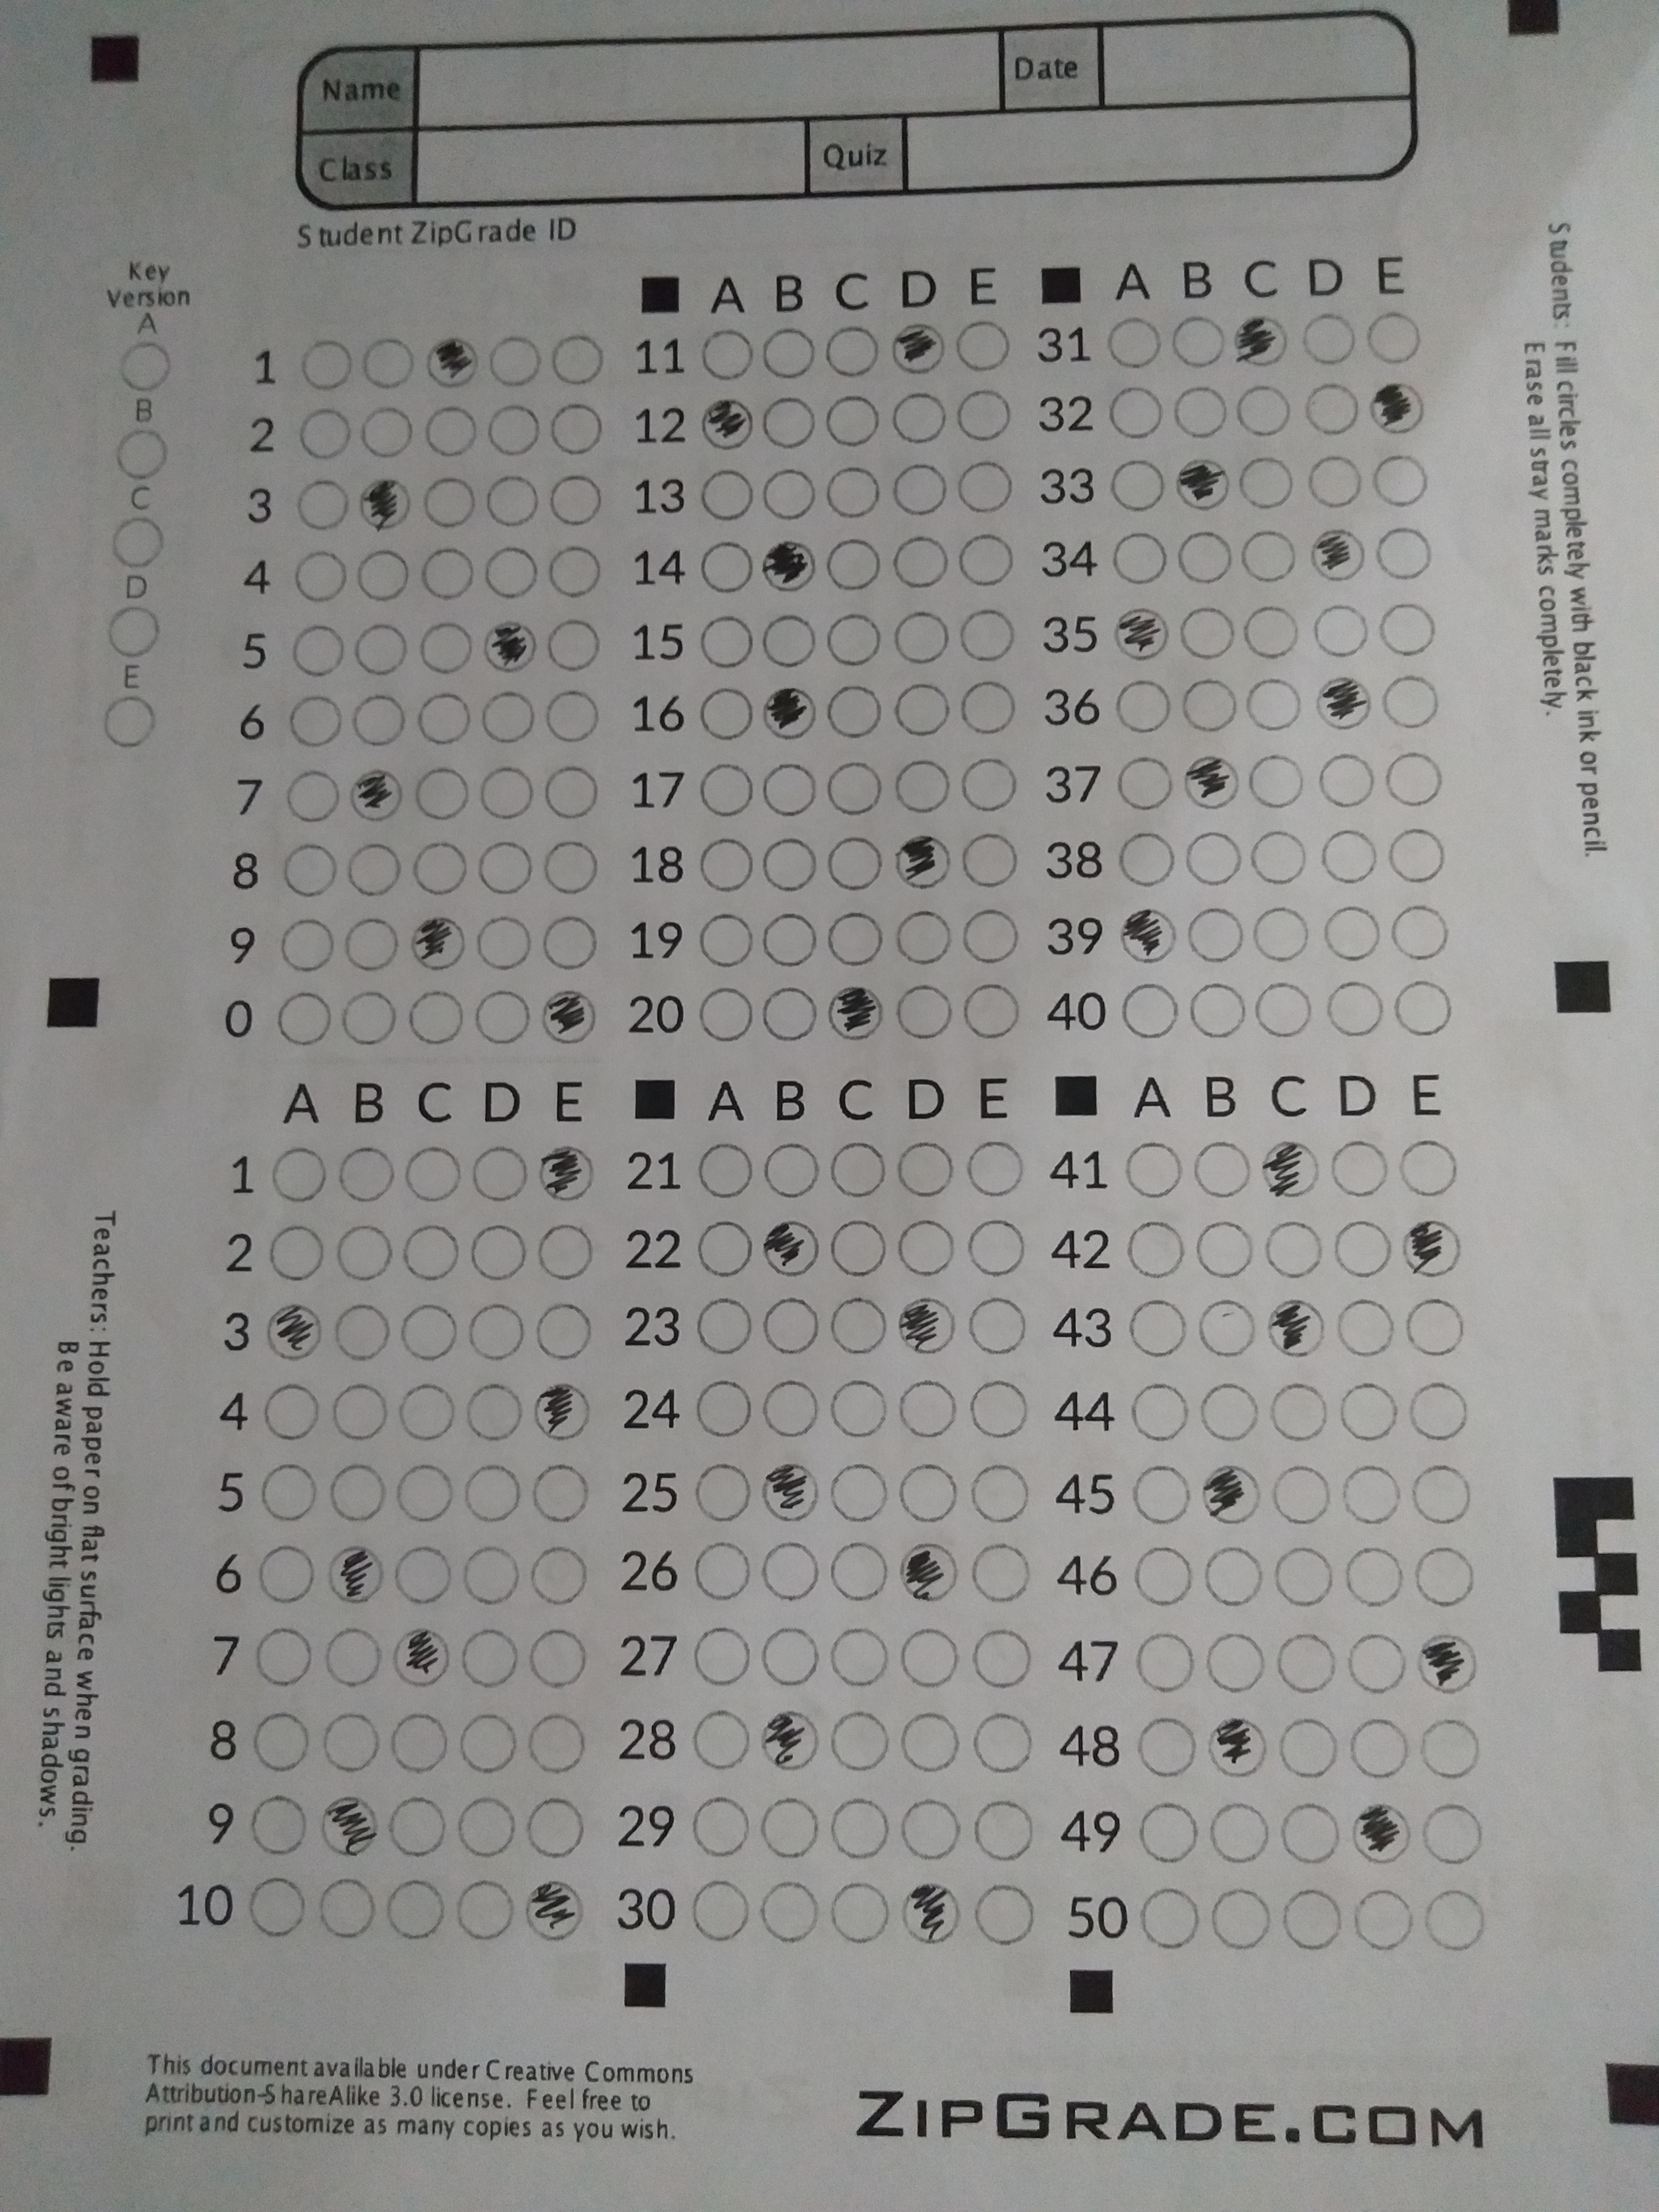not-c: (458, 1547, 530, 1611), (314, 1627, 385, 1691), (237, 1874, 308, 1939), (390, 1545, 460, 1609), (455, 1629, 525, 1693), (387, 1710, 457, 1775), (530, 1709, 599, 1773), (528, 1547, 598, 1611), (532, 1465, 601, 1529), (530, 1630, 599, 1695), (525, 1794, 594, 1858), (453, 1794, 523, 1858), (310, 1878, 380, 1942), (385, 1794, 455, 1858), (319, 1383, 389, 1447), (254, 1383, 324, 1447), (251, 1541, 321, 1606), (249, 1623, 319, 1688), (242, 1794, 312, 1858), (383, 1881, 455, 1944), (246, 1710, 317, 1773), (453, 1710, 523, 1773), (317, 1710, 387, 1773), (322, 1463, 392, 1526), (254, 1463, 324, 1526), (547, 470, 612, 535), (1270, 1545, 1337, 1608), (1345, 1630, 1412, 1693), (1342, 1548, 1408, 1611), (1412, 1461, 1478, 1524), (1349, 1890, 1415, 1952), (1276, 1717, 1342, 1780), (1347, 1716, 1413, 1778), (1326, 1134, 1392, 1197), (1417, 1719, 1483, 1782), (1187, 1139, 1253, 1202), (1190, 1221, 1256, 1284), (1194, 1299, 1260, 1362), (1197, 1383, 1263, 1446), (1127, 1548, 1194, 1611), (1127, 1465, 1194, 1527), (1124, 1379, 1190, 1442), (1122, 1298, 1188, 1360), (1121, 1223, 1187, 1285), (1115, 1139, 1182, 1202), (974, 1881, 1040, 1944), (1206, 1804, 1272, 1867), (962, 1143, 1028, 1205), (828, 1378, 894, 1440), (829, 1296, 896, 1359), (760, 1378, 826, 1440), (687, 1296, 753, 1359), (971, 1543, 1037, 1606), (964, 1376, 1030, 1439), (828, 1710, 894, 1773), (824, 1625, 890, 1688), (687, 1709, 753, 1771), (758, 1625, 824, 1688), (826, 1883, 892, 1946), (901, 1796, 967, 1858), (688, 1629, 755, 1691), (394, 1465, 462, 1526), (544, 686, 608, 749), (540, 538, 605, 601), (477, 535, 542, 597), (545, 399, 610, 462), (481, 401, 545, 463), (481, 467, 545, 529), (415, 538, 479, 601), (416, 470, 481, 533), (354, 404, 418, 467), (354, 542, 418, 604), (284, 542, 349, 604), (288, 472, 352, 535), (289, 399, 354, 462), (551, 329, 615, 392), (486, 333, 551, 395), (355, 333, 420, 395), (291, 333, 355, 395), (408, 988, 472, 1050), (469, 984, 533, 1047), (479, 833, 544, 895), (474, 761, 538, 824), (540, 613, 605, 676), (411, 763, 476, 826), (415, 693, 479, 756), (418, 618, 483, 681), (340, 911, 404, 974), (340, 840, 404, 902), (354, 620, 418, 683), (342, 986, 406, 1049), (272, 989, 336, 1052), (270, 918, 335, 981), (274, 843, 338, 906), (274, 768, 338, 831), (282, 691, 347, 754), (282, 617, 347, 679), (758, 611, 823, 674), (690, 610, 755, 672), (828, 907, 892, 970), (828, 834, 892, 897), (762, 831, 826, 894), (765, 761, 829, 824), (760, 986, 824, 1049), (763, 907, 828, 970), (697, 913, 762, 975), (695, 834, 760, 897), (699, 759, 763, 822), (692, 683, 756, 745), (695, 989, 760, 1052), (542, 913, 606, 975), (542, 834, 606, 897), (829, 759, 894, 822), (1399, 1139, 1464, 1202), (1175, 679, 1239, 742), (1110, 679, 1175, 742), (1114, 754, 1178, 817), (1114, 831, 1178, 894), (1185, 902, 1249, 965), (1243, 676, 1307, 738), (1243, 756, 1307, 819), (1248, 829, 1312, 892), (1255, 900, 1319, 963), (1255, 979, 1319, 1042), (1307, 604, 1371, 667), (1312, 752, 1377, 815), (1319, 826, 1384, 888), (1321, 906, 1385, 968), (1323, 982, 1387, 1045), (1371, 594, 1436, 657), (1380, 667, 1445, 730), (1384, 749, 1448, 812), (1389, 902, 1453, 965), (1391, 981, 1455, 1043), (1171, 603, 1236, 665), (1239, 599, 1303, 662), (1293, 303, 1358, 366), (1370, 449, 1434, 512), (1164, 383, 1229, 446), (1096, 383, 1161, 446), (1098, 314, 1162, 376), (1161, 314, 1225, 376), (1225, 381, 1290, 444), (1098, 455, 1162, 517), (1230, 451, 1295, 514), (1100, 528, 1164, 590), (1169, 526, 1234, 589), (1239, 526, 1303, 589), (1134, 1634, 1199, 1696), (1201, 1634, 1265, 1696), (1274, 1632, 1338, 1695), (1265, 1381, 1330, 1444), (1333, 1219, 1398, 1282), (1337, 1379, 1401, 1442), (1410, 1543, 1474, 1606), (1403, 1379, 1467, 1442), (1419, 1803, 1483, 1865), (1202, 1545, 1267, 1608), (1284, 1888, 1349, 1951), (1208, 1890, 1272, 1952), (1136, 1886, 1201, 1949), (1136, 1801, 1201, 1864), (1279, 1804, 1344, 1867), (824, 1463, 889, 1526), (824, 1143, 889, 1205), (762, 1292, 826, 1355), (685, 1541, 749, 1604), (762, 1143, 826, 1205), (969, 1463, 1033, 1526), (965, 1299, 1030, 1362), (964, 1216, 1028, 1278), (826, 1538, 890, 1601), (897, 1372, 962, 1435), (897, 1216, 962, 1278), (897, 1627, 962, 1689), (758, 1881, 823, 1944), (971, 1712, 1035, 1775), (971, 1630, 1035, 1693), (103, 599, 167, 662), (106, 509, 171, 571), (108, 423, 173, 486), (113, 336, 178, 399), (1187, 982, 1251, 1045), (1260, 1219, 1326, 1280), (1398, 1296, 1464, 1357), (1419, 1888, 1485, 1949), (688, 1219, 755, 1280), (460, 1465, 526, 1526), (467, 1146, 533, 1207), (397, 1221, 464, 1282), (537, 1223, 603, 1284), (897, 1461, 964, 1522), (826, 1221, 892, 1282), (892, 1139, 958, 1200), (760, 1797, 826, 1858), (826, 1801, 892, 1862), (688, 1794, 755, 1855), (685, 1879, 751, 1940), (896, 1712, 962, 1773), (1129, 1716, 1195, 1777), (418, 404, 481, 467), (474, 907, 537, 970), (481, 688, 544, 751), (411, 840, 474, 902), (349, 695, 411, 758), (544, 761, 606, 824), (1190, 833, 1253, 895), (1373, 521, 1436, 583), (1385, 826, 1448, 888), (1303, 449, 1366, 512), (1298, 378, 1361, 441), (1361, 308, 1424, 371), (98, 693, 160, 756), (1267, 1465, 1331, 1526), (1335, 1299, 1399, 1360), (1337, 1465, 1401, 1526), (756, 1538, 821, 1599), (688, 1463, 753, 1524), (688, 1379, 753, 1440), (974, 1801, 1039, 1862), (397, 1385, 464, 1444), (397, 1148, 464, 1207), (460, 1385, 526, 1444), (396, 1306, 462, 1366), (326, 1305, 392, 1364), (331, 1221, 397, 1280), (331, 1144, 397, 1204), (260, 1221, 326, 1280), (267, 1146, 333, 1205), (695, 1141, 762, 1200), (533, 1303, 599, 1362), (465, 1305, 532, 1364), (465, 1223, 532, 1282), (953, 385, 1018, 444), (887, 387, 951, 446), (824, 611, 889, 671), (824, 538, 889, 597), (758, 467, 823, 526), (760, 395, 824, 455), (894, 911, 958, 970), (962, 907, 1026, 967), (896, 982, 960, 1042), (962, 982, 1026, 1042), (1117, 979, 1182, 1038), (889, 462, 951, 521), (694, 469, 756, 528), (958, 758, 1021, 817), (960, 831, 1023, 890), (960, 610, 1023, 669), (892, 538, 955, 597), (955, 317, 1019, 374), (824, 685, 889, 742), (821, 463, 885, 521), (821, 394, 885, 451), (819, 329, 884, 387), (690, 540, 755, 597), (953, 536, 1018, 594), (892, 610, 957, 667), (894, 686, 958, 744), (455, 1879, 516, 1939), (957, 458, 1019, 516), (758, 326, 821, 383), (690, 326, 753, 383), (897, 761, 960, 819), (962, 683, 1025, 740)
taken-c: (382, 1625, 453, 1689), (1194, 1461, 1265, 1526), (896, 1883, 967, 1947), (532, 1376, 596, 1446), (260, 1299, 329, 1364), (1202, 1714, 1272, 1778), (319, 1543, 389, 1608), (1412, 1630, 1481, 1695), (896, 1541, 965, 1606), (1347, 1803, 1417, 1867), (314, 1794, 383, 1858), (753, 1710, 824, 1773), (523, 1881, 592, 1944), (821, 982, 889, 1043), (404, 913, 469, 975), (343, 765, 408, 827), (758, 679, 823, 742), (892, 831, 957, 894), (535, 984, 599, 1047), (1312, 667, 1377, 730), (1178, 752, 1243, 815), (1117, 904, 1182, 967), (420, 329, 484, 392), (760, 1217, 824, 1280), (1398, 1216, 1462, 1278), (894, 1296, 958, 1359), (1256, 1139, 1323, 1200), (1262, 1299, 1328, 1360), (1229, 310, 1291, 373), (532, 1144, 598, 1204), (756, 1463, 823, 1522), (1171, 451, 1232, 512), (352, 472, 413, 533), (758, 538, 821, 597), (1366, 378, 1429, 437), (1108, 604, 1173, 662), (884, 320, 948, 378), (694, 395, 758, 453), (1307, 526, 1370, 583), (479, 615, 538, 674)
